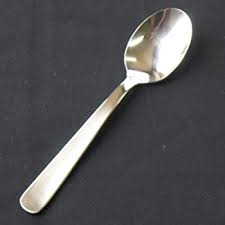spoon: (16, 5, 195, 218)
